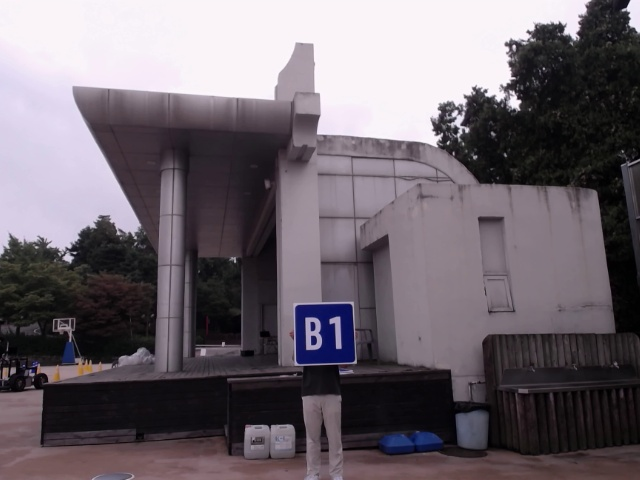delivery_b1: (293, 302, 357, 365)
